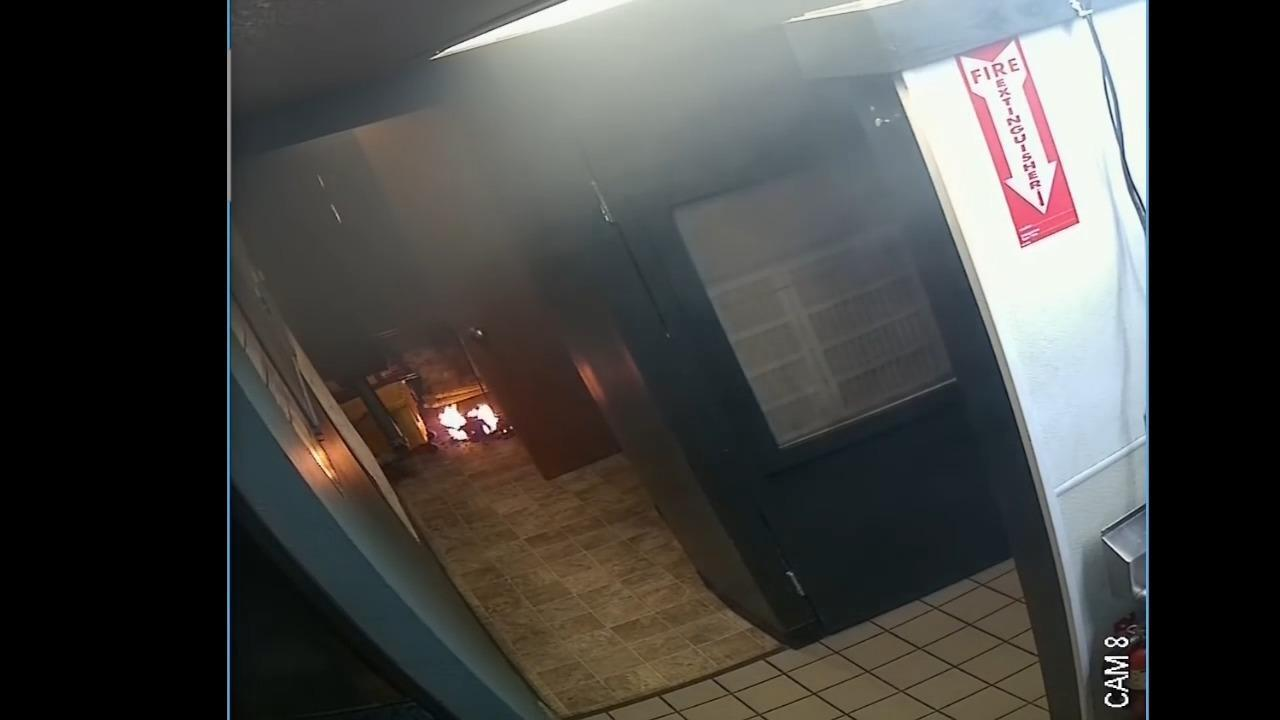fire: (439, 402, 498, 439)
